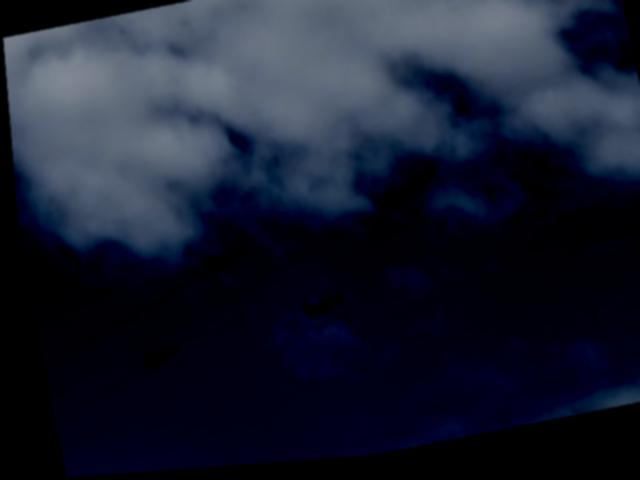flying wing: (374, 178, 432, 228), (291, 290, 346, 335), (196, 244, 246, 284), (130, 343, 181, 382)
